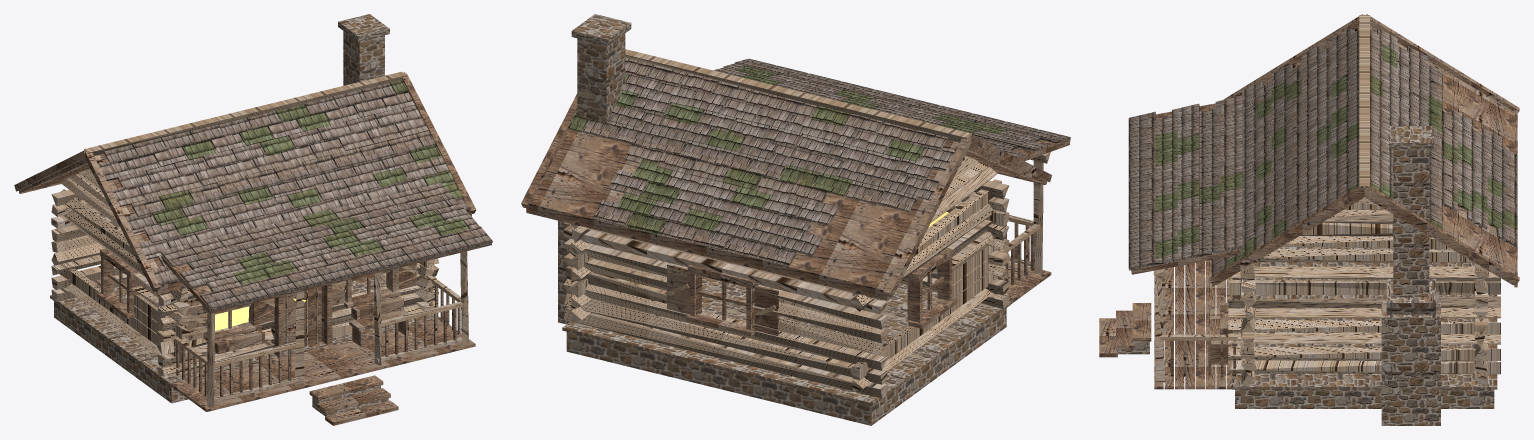
The model's file is cabana_lejos.glb.
3 renders of one model, left to right at view 1: azimuth 30°, elevation 25°; view 2: azimuth 150°, elevation 25°; view 3: azimuth 270°, elevation 25°, orthographic. The views are drawn at different scales.
Visible parts, largest first — view 1: pieza; view 2: pieza; view 3: pieza.
Part boxes in pixels (x1,y1,x2,y2): pieza: (14, 14, 492, 425); pieza: (521, 14, 1070, 425); pieza: (1099, 14, 1519, 425).
Size of the model in its own units: 7.97 by 5.97 by 8.11.
7 materials, 5 textured.
